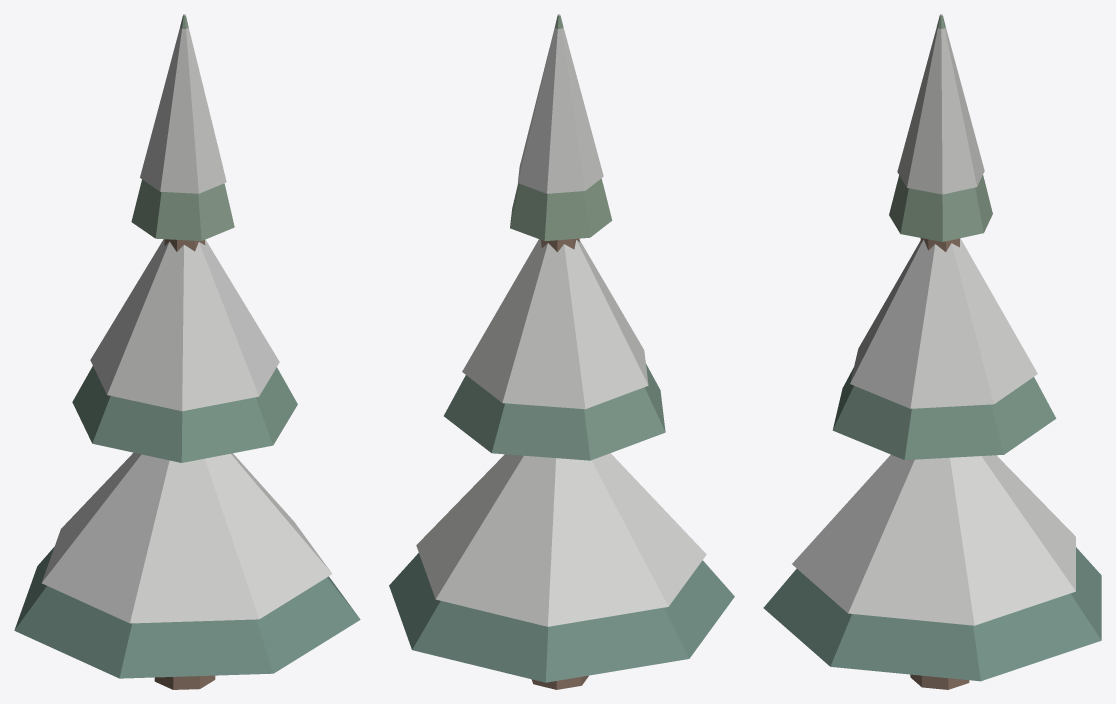
3 renders of one model, left to right at view 1: azimuth 30°, elevation 25°; view 2: azimuth 150°, elevation 25°; view 3: azimuth 270°, elevation 25°, orthographic.
Parts seen in each view (by area): view 1: T01; view 2: T01; view 3: T01.
Boxes of the visible parts, x1,y1,x2,y2 form: T01: [14, 14, 360, 689]; T01: [389, 14, 734, 689]; T01: [763, 14, 1101, 689].
Bounding box in the file's own units: 1.34 × 2.82 × 1.3.
